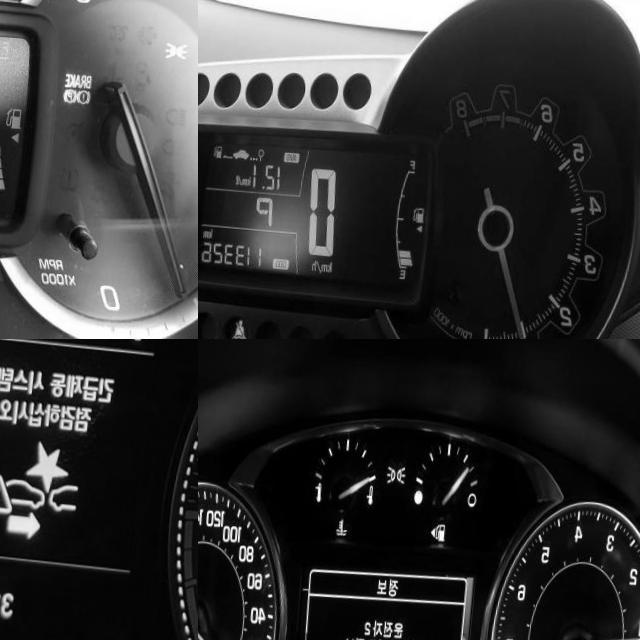SideLamp: (170, 30, 196, 49), (392, 457, 413, 479)
